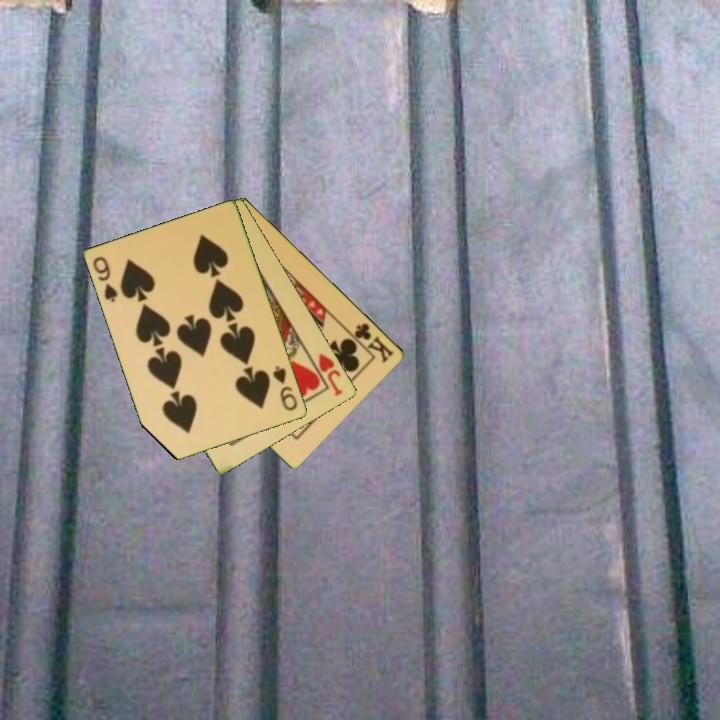9s: (269, 362, 301, 414), (90, 253, 121, 305)
Jh: (306, 349, 346, 399)
Kc: (345, 320, 397, 366)
